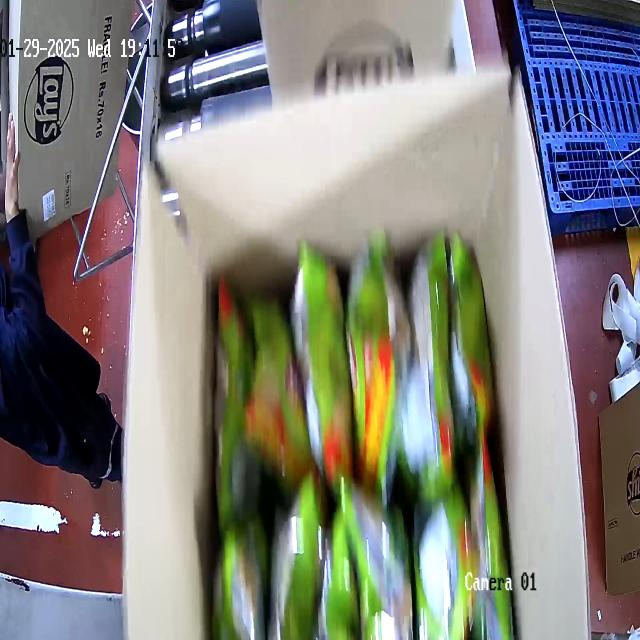YOGURT_HERB: (210, 225, 514, 638)
